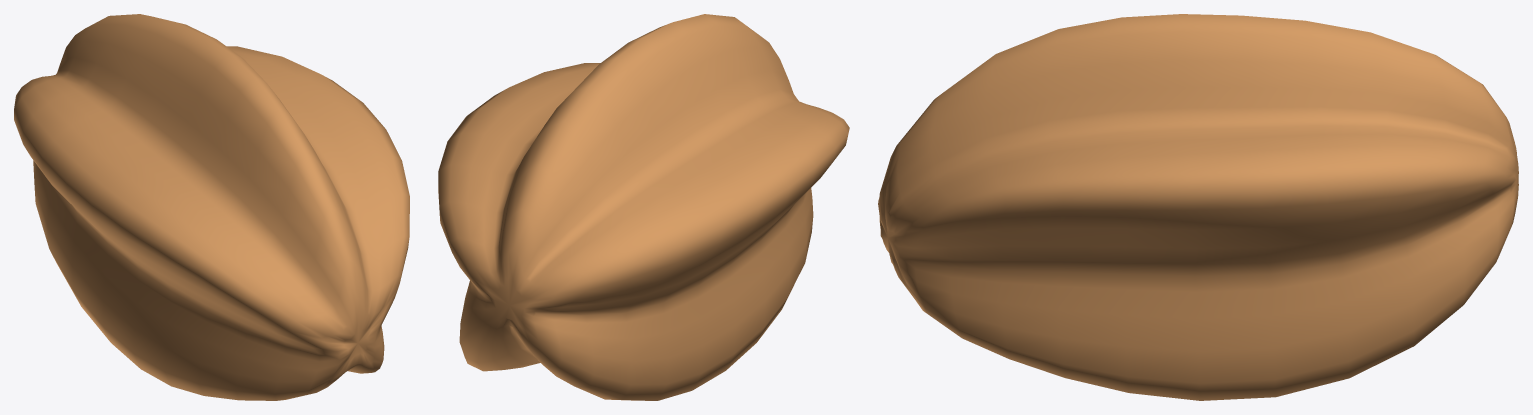
The model's file is Starfruit_02.dae.
3 renders of one model, left to right at view 1: azimuth 30°, elevation 25°; view 2: azimuth 150°, elevation 25°; view 3: azimuth 270°, elevation 25°, orthographic. The views are drawn at different scales.
Visible parts, largest first — view 1: Starfruit_02_LOD0; view 2: Starfruit_02_LOD0; view 3: Starfruit_02_LOD0.
Part boxes in pixels (x1,y1,x2,y2): Starfruit_02_LOD0: [14, 14, 409, 400]; Starfruit_02_LOD0: [438, 14, 849, 400]; Starfruit_02_LOD0: [878, 14, 1518, 400].
Size of what is drawn, in the model's own units: 3.26 by 5.68 by 3.36.
